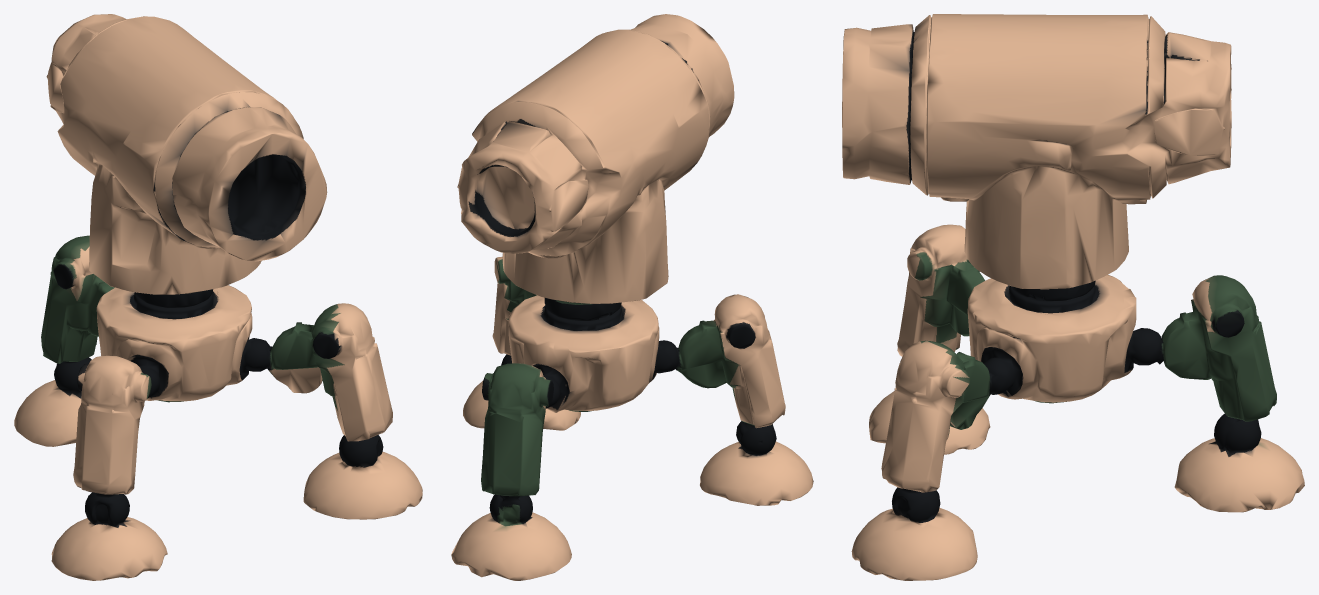
The model's file is tripod-lod.glb.
3 renders of one model, left to right at view 1: azimuth 30°, elevation 25°; view 2: azimuth 150°, elevation 25°; view 3: azimuth 270°, elevation 25°, orthographic. The views are drawn at different scales.
Parts seen in each view (by area): view 1: inspection tripod tripo lod; view 2: inspection tripod tripo lod; view 3: inspection tripod tripo lod.
Part boxes in pixels (left/top/right/bottom): inspection tripod tripo lod: left=14, top=14, right=422, bottom=580; inspection tripod tripo lod: left=451, top=14, right=813, bottom=580; inspection tripod tripo lod: left=842, top=14, right=1304, bottom=580.
Bounding box in the file's own units: 2.6 × 3.1 × 2.75.
Materials: 1 (1 with a texture image).
